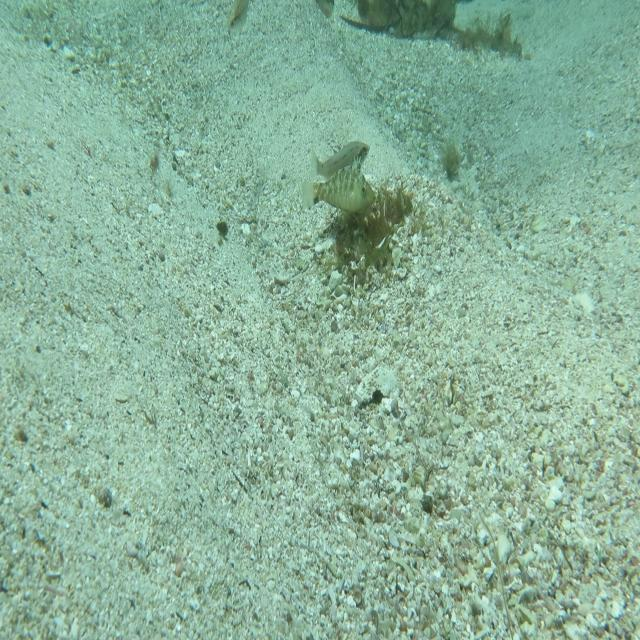BEND_OPP: (300, 152, 380, 216)
female: (306, 139, 373, 179)
nest: (313, 169, 417, 305)
